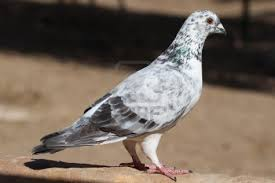pigeon: (30, 7, 229, 182)
